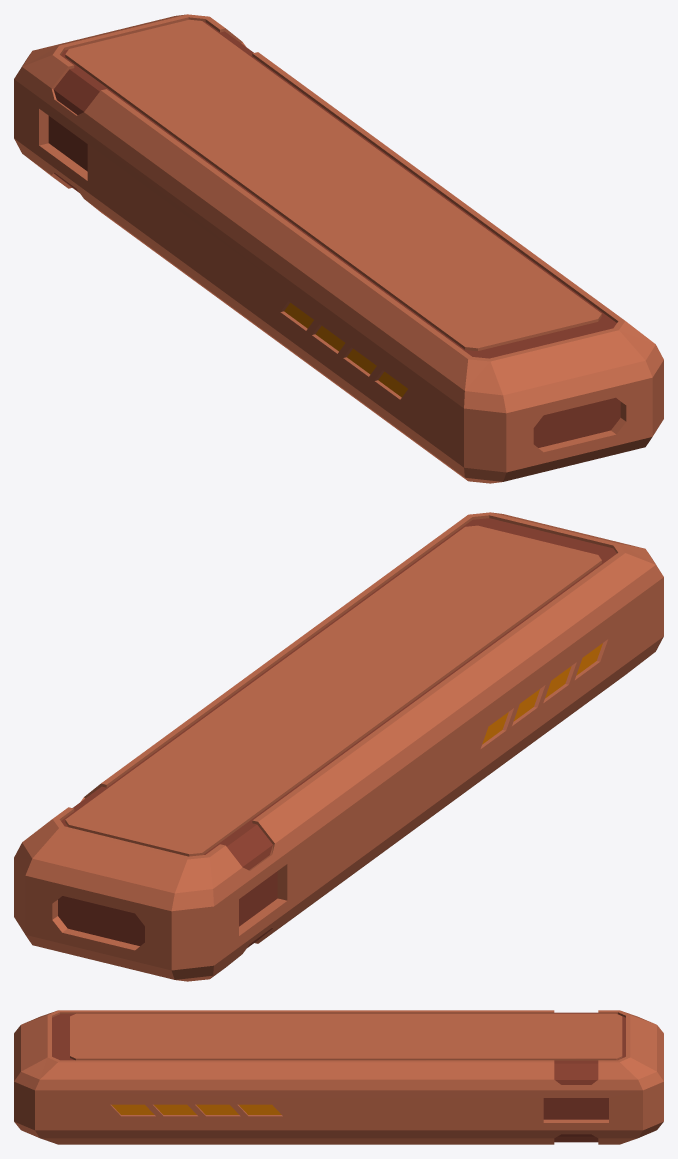
The model's file is SM_Copper_Bar.fbx.
The picture shows the model from 3 angles, top to bottom: view 1: azimuth 30°, elevation 25°; view 2: azimuth 150°, elevation 25°; view 3: azimuth 270°, elevation 25°; orthographic projection. The views are drawn at different scales.
Parts seen in each view (by area): view 1: SM_Copper_Bar; view 2: SM_Copper_Bar; view 3: SM_Copper_Bar.
Part boxes in pixels (<box>): SM_Copper_Bar: <box>14,14,663,483</box>; SM_Copper_Bar: <box>14,512,663,981</box>; SM_Copper_Bar: <box>14,1010,663,1144</box>.
Bounding box in the file's own units: 12 × 7 × 50.
